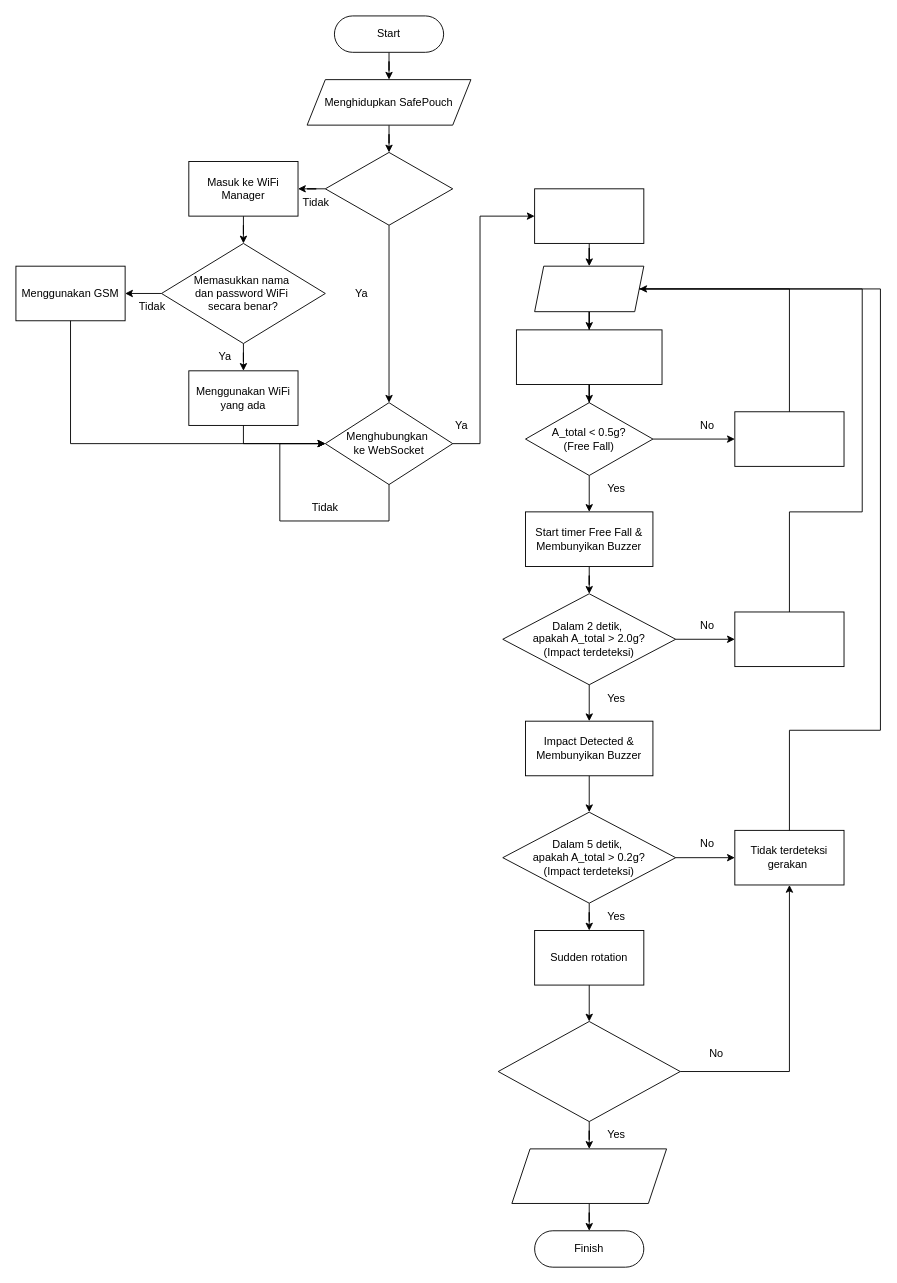
This 897x1283 diagram has some shape labels left out. The centre of each missing label's shape, as x and y in pixels:
Kombinasi FF + Impact + Rot?: [588,1071]
Kondisi Awal = IDLE: [589,215]
Lanjut baca sensor: [789,438]
Membaca Acceleration Sensor IMU: [589,288]
Mengirim notifikasi darurat "Jatuh Terdeteksi": [589,1175]
Reser timer, Lanjut baca sensor: [789,639]
Terhubung ke WiFi?: [388,188]
Total akselerasi A_total = √(Ax² + Ay² + Az²): [589,356]
